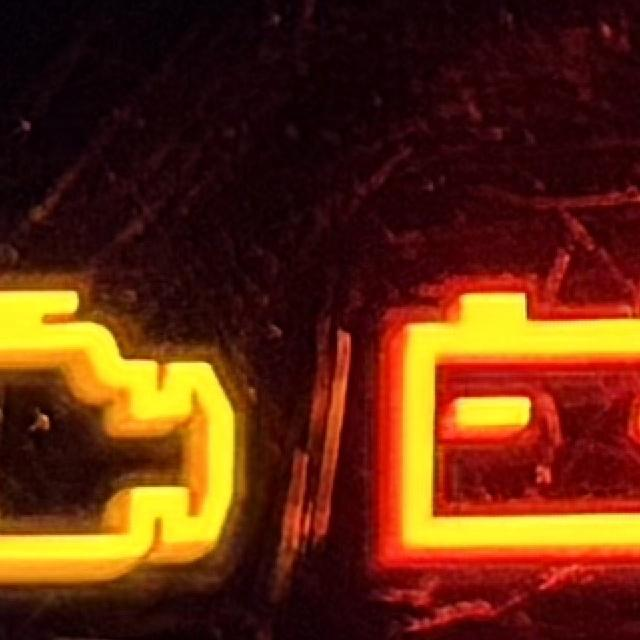Battery Issue: (381, 288, 640, 559)
Engine Issue: (1, 284, 242, 594)
